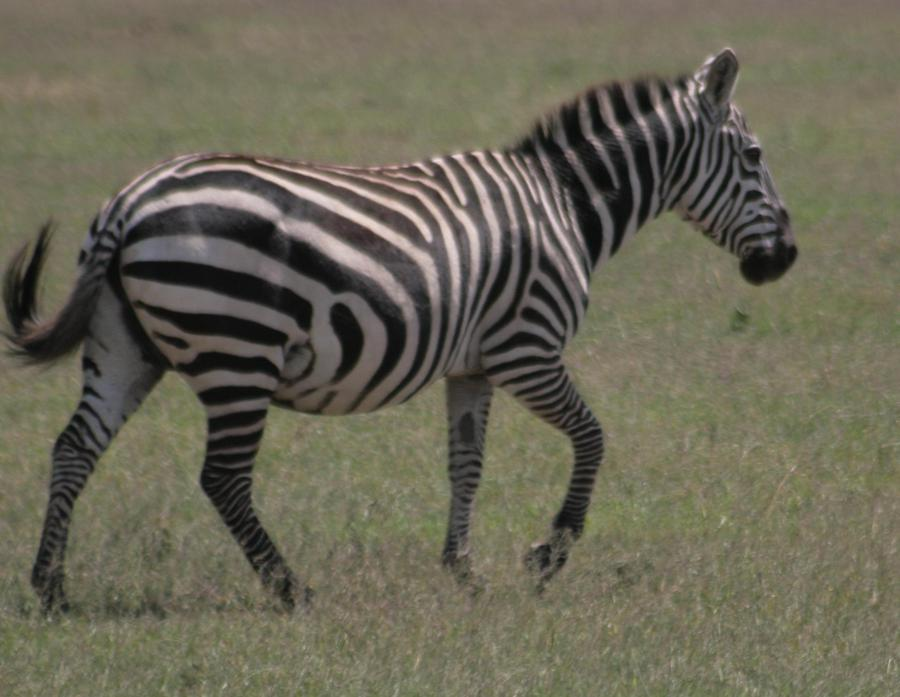zebra_plains: (154, 123, 590, 433)
